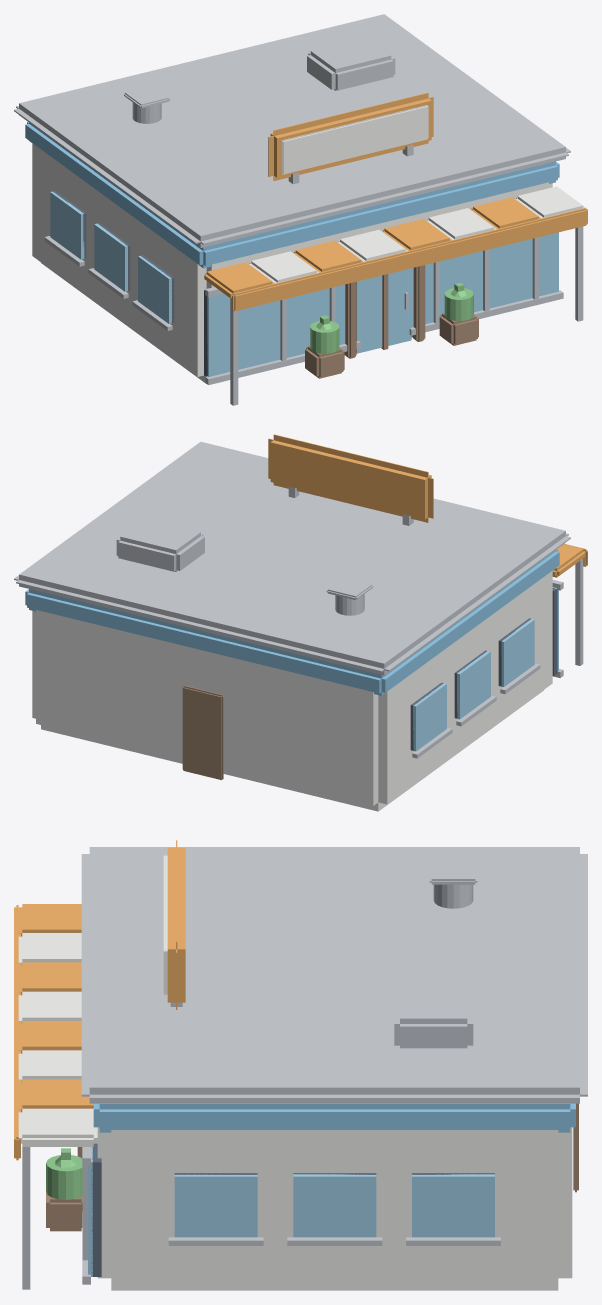
The model's file is toko_modern.fbx.
3 views of the same model, one above another, from view 1: azimuth 30°, elevation 25°; view 2: azimuth 150°, elevation 25°; view 3: azimuth 270°, elevation 25° (orthographic). The views are drawn at different scales.
Parts seen in each view (by area): view 1: TkTrim, TkWall, TkGlass, TkSign, TkAccent, TkWood, TkGreen, TkDark; view 2: TkTrim, TkWall, TkAccent, TkSign, TkGlass, TkWood, TkDark; view 3: TkTrim, TkWall, TkGlass, TkAccent, TkSign, TkWood, TkDark, TkGreen.
Part boxes in pixels (x1,y1,x2,y2): TkTrim: [14, 14, 583, 405]; TkWall: [32, 105, 585, 383]; TkGlass: [50, 191, 558, 376]; TkSign: [204, 92, 587, 311]; TkAccent: [25, 122, 559, 268]; TkWood: [305, 265, 478, 378]; TkGreen: [310, 282, 473, 353]; TkDark: [53, 191, 412, 376]; TkTrim: [14, 441, 583, 758]; TkWall: [32, 571, 552, 811]; TkAccent: [25, 549, 559, 695]; TkSign: [268, 434, 587, 577]; TkGlass: [413, 587, 558, 751]; TkWood: [182, 685, 223, 780]; TkDark: [410, 588, 557, 750]; TkTrim: [22, 847, 587, 1289]; TkWall: [18, 854, 572, 1290]; TkGlass: [88, 1147, 494, 1276]; TkAccent: [93, 1103, 575, 1132]; TkSign: [14, 840, 185, 1160]; TkWood: [46, 1103, 578, 1231]; TkDark: [91, 1143, 494, 1276]; TkGreen: [46, 1148, 82, 1199].
Bounding box in the file's own units: 29.6 × 16.1 × 29.03.
